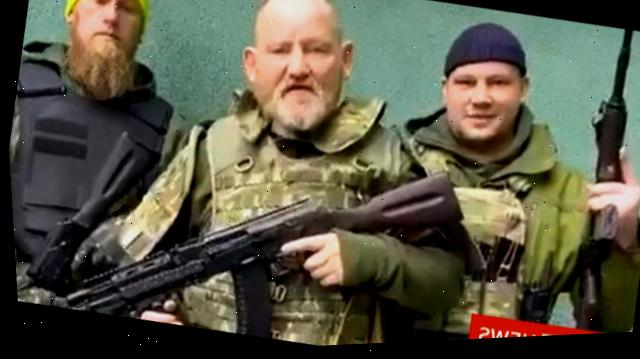rifle: (30, 100, 475, 358)
